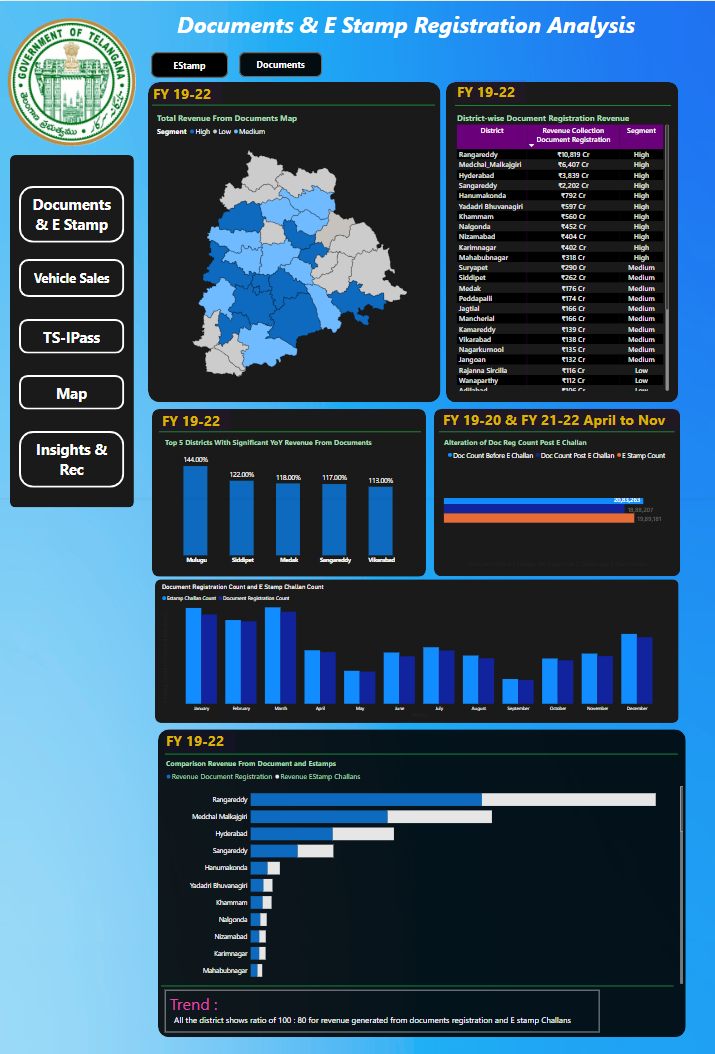

The dashboard page shown, as its layout file describes it:
{"tool":"powerbi","page":{"name":"Stamp Registration Analysis","canvas":[1900,2700],"ordinal":0},"visuals":[{"type":"shape","box":[411.1,1540,1377.8,377.8],"z":0},{"type":"shape","box":[391.1,213.9,769.6,843],"z":1000},{"type":"shape","box":[1143.8,1073.2,647.7,458.5],"z":2000},{"type":"shape","box":[402.9,1072.7,721.4,458.6],"z":3000},{"type":"shape","box":[418.1,1934.1,1388.6,721.5],"z":4000},{"type":"shape","box":[1177.3,214.4,611.5,842.6],"z":6000},{"type":"actionButton","box":[400,132.9,202.5,68.4],"z":7000},{"type":"barChart","title":"Comparison Revenue From Document and Estamps","fields":{"Category":["Q2.District"],"Y":["Sum(Q2.Doc_Trunc)","Sum(Q2.Estamp_Trunc)"]},"box":[434.2,2009.7,1371.1,510.5],"z":8000},{"type":"actionButton","box":[631.6,132.9,219,65.8],"z":11000},{"type":"shape","box":[402.7,258.8,745.5,31.8],"z":14000},{"type":"shape","box":[1201,258.2,568.7,34.3],"z":15000},{"type":"shape","box":[435.6,1959.2,1350,83.3],"z":17000},{"type":"textbox","box":[433.5,1934.6,187.1,60],"z":18000},{"type":"shape","box":[421.5,1091.2,690,82.9],"z":19000},{"type":"shape","box":[1158.6,1091.2,620,82.9],"z":21000},{"type":"textbox","box":[1164,1072.1,627.9,60.7],"z":22000},{"type":"shapeMap","title":"Total Revenue From Documents Map","fields":{"Category":["Table 1 (Q1).District"],"Value":["Sum(Q1.Trunc_value)"],"Series":["Q1.Segment"]},"box":[410.5,292.1,760.5,734.2],"z":23000},{"type":"pivotTable","title":"District-wise Document Registration Revenue","fields":{"Rows":["Q4.District"],"Values":["Sum(Q1.Trunc_value)","Min(Q1.Segment)"]},"box":[1200,292.1,568.4,739.5],"z":24000},{"type":"textbox","box":[1200,207.9,186.8,60.5],"z":25000},{"type":"clusteredColumnChart","title":"Top 5 Districts With Significant YoY Revenue From Documents","fields":{"Category":["Sheet1.District"],"Y":["Sum(Sheet1.Total Growth)"]},"box":[431.6,1147.4,663.2,363.2],"z":26000},{"type":"textbox","box":[423.7,1073.7,186.8,60.5],"z":27000},{"type":"textbox","box":[399.8,214.4,187.1,60],"z":28000},{"type":"clusteredBarChart","title":"Alteration of Doc Reg Count Post E Challan","fields":{"Y":["Median(Q3.Total Reg Count)","Median(Q3a.Sum_RegCount_AprToNov21)","Median(Q3a.Sum_EStamp_AprToNov21)"]},"box":[1164.9,1148.5,606.8,364.8],"z":29000},{"type":"image","box":[18.4,36.8,347.4,352.6],"z":30000},{"type":"shape","box":[687.3,3446.8,1349.4,83.5],"z":31000},{"type":"shape","box":[425.7,2478.4,1349.4,83.5],"z":32000},{"type":"textbox","box":[437.1,2530.3,1143,111.4],"z":33000},{"type":"clusteredColumnChart","title":"Document Registration Count and E Stamp Challan Count","fields":{"Y":["Sum(Q3a.Total_Count_Estamp_Challan)","Sum(Q3a.Total_Count_Registered_Document)"],"Category":["Q3a.Month.Variation.Date Hierarchy.Month"]},"box":[424.4,1548.9,1344.4,360],"z":34000},{"type":"shape","box":[27.7,406.4,325.5,944.7],"z":35000},{"type":"actionButton","box":[53.2,487.2,276.6,148.9],"z":36000},{"type":"actionButton","box":[53.2,678.7,276.6,100],"z":37000},{"type":"actionButton","box":[53.2,836.2,276.6,91.5],"z":38000},{"type":"actionButton","box":[53.2,983,276.6,91.5],"z":39000},{"type":"actionButton","box":[53.2,1131.9,276.6,148.9],"z":40000},{"type":"textbox","box":[463.8,17,1236.2,114.9],"z":41000}]}

Visuals, with their boxes on the page's 1900x2700 design canvas (x1, y1, x2, y2). These are canvas units, not pixel positions in the 715x1054 screenshot, which may show the page scaled, cropped or inside an application window:
shape: [411, 1540, 1789, 1918]
shape: [391, 214, 1161, 1057]
shape: [1144, 1073, 1792, 1532]
shape: [403, 1073, 1124, 1531]
shape: [418, 1934, 1807, 2656]
shape: [1177, 214, 1789, 1057]
actionButton: [400, 133, 602, 201]
"Comparison Revenue From Document and Estamps" barChart: [434, 2010, 1805, 2520]
actionButton: [632, 133, 851, 199]
shape: [403, 259, 1148, 291]
shape: [1201, 258, 1770, 292]
shape: [436, 1959, 1786, 2042]
textbox: [434, 1935, 621, 1995]
shape: [422, 1091, 1112, 1174]
shape: [1159, 1091, 1779, 1174]
textbox: [1164, 1072, 1792, 1133]
"Total Revenue From Documents Map" shapeMap: [410, 292, 1171, 1026]
"District-wise Document Registration Revenue" pivotTable: [1200, 292, 1768, 1032]
textbox: [1200, 208, 1387, 268]
"Top 5 Districts With Significant YoY Revenue From Documents" clusteredColumnChart: [432, 1147, 1095, 1511]
textbox: [424, 1074, 610, 1134]
textbox: [400, 214, 587, 274]
"Alteration of Doc Reg Count Post E Challan" clusteredBarChart: [1165, 1148, 1772, 1513]
image: [18, 37, 366, 389]
shape: [687, 3447, 2037, 3530]
shape: [426, 2478, 1775, 2562]
textbox: [437, 2530, 1580, 2642]
"Document Registration Count and E Stamp Challan Count" clusteredColumnChart: [424, 1549, 1769, 1909]
shape: [28, 406, 353, 1351]
actionButton: [53, 487, 330, 636]
actionButton: [53, 679, 330, 779]
actionButton: [53, 836, 330, 928]
actionButton: [53, 983, 330, 1074]
actionButton: [53, 1132, 330, 1281]
textbox: [464, 17, 1700, 132]
